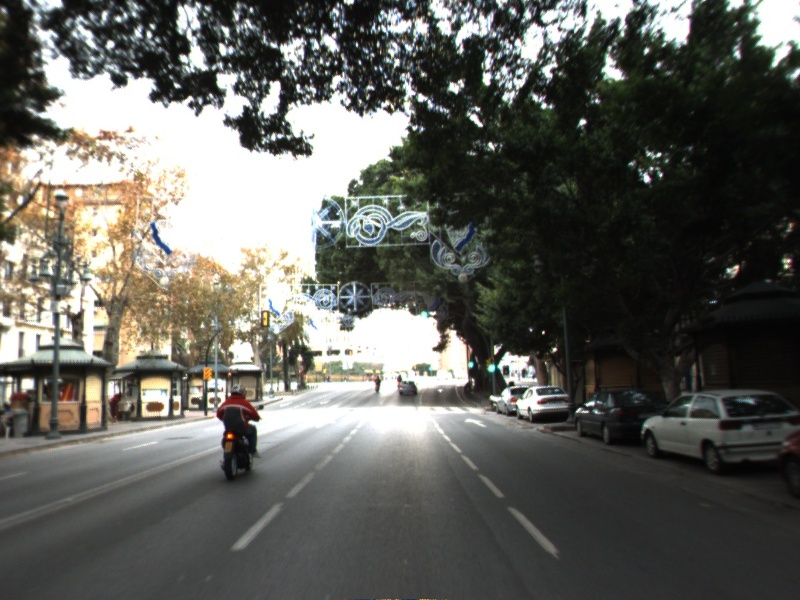STRAIGHT: (462, 416, 489, 429)
